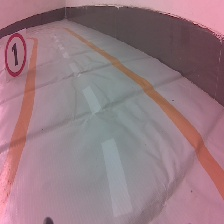limit: (2, 28, 30, 79)
